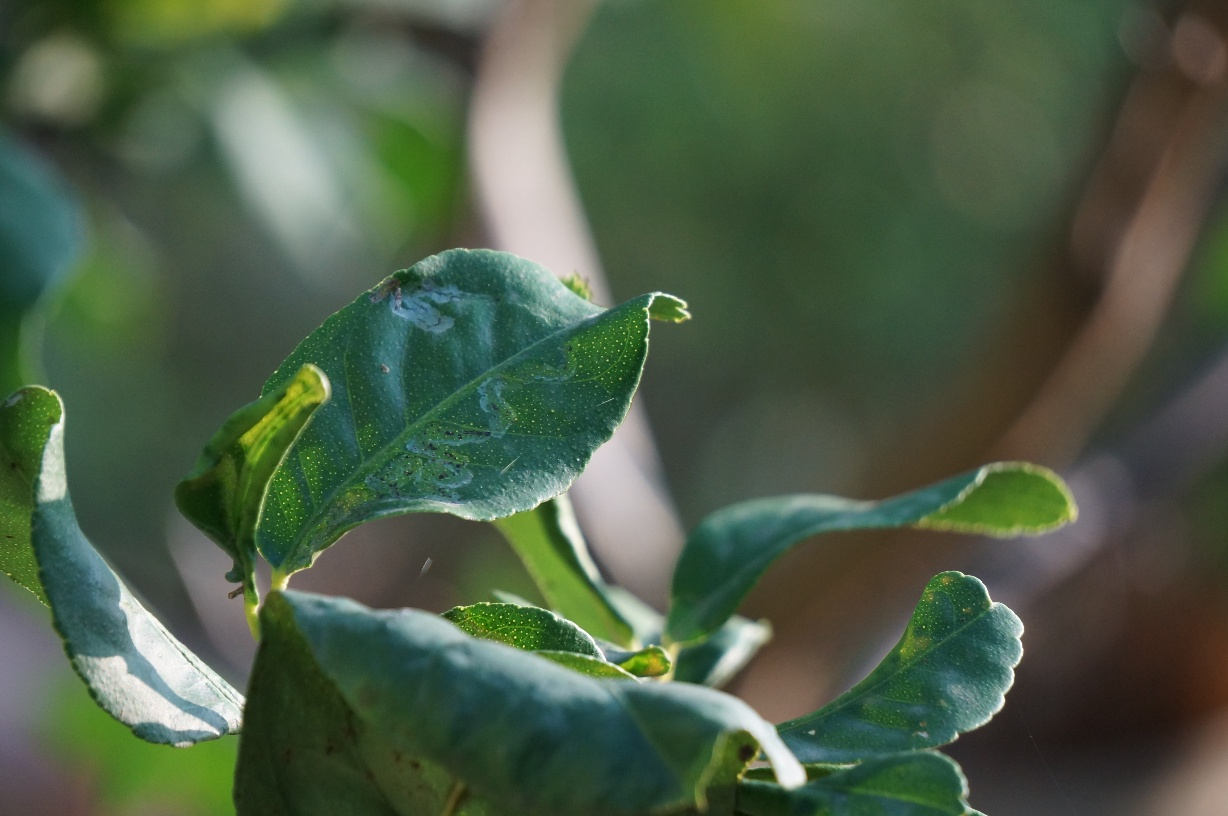damage: (342, 325, 588, 538), (368, 259, 473, 341)
